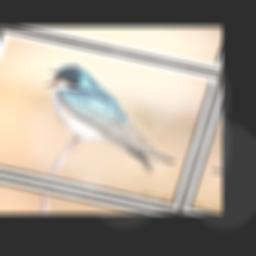Swallow: (22, 58, 200, 179)
